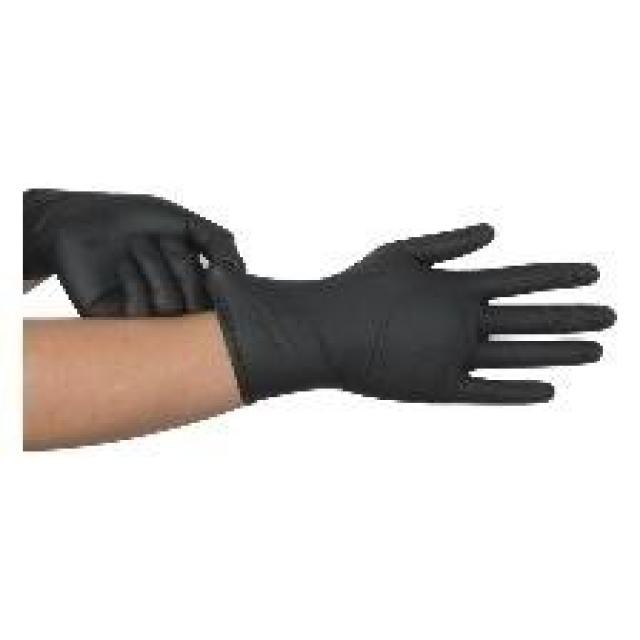Glove: (20, 127, 640, 520)
